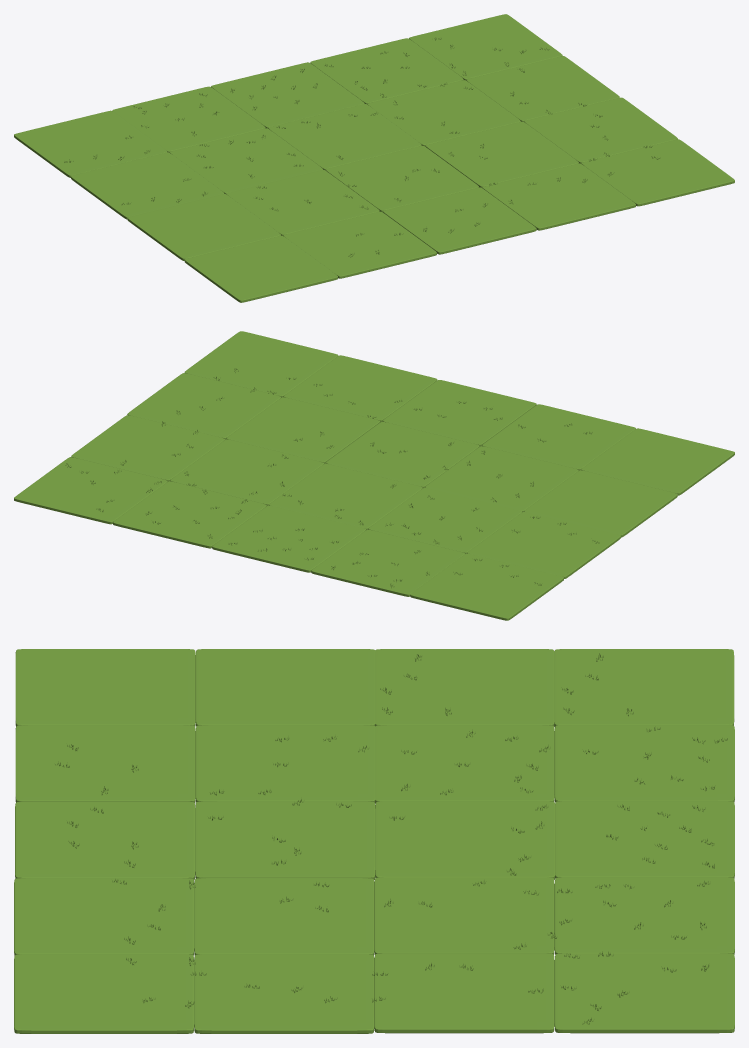
File: FLOOR.fbx
The picture shows the model from 3 angles, top to bottom: view 1: azimuth 30°, elevation 25°; view 2: azimuth 150°, elevation 25°; view 3: azimuth 270°, elevation 25°; orthographic projection. The views are drawn at different scales.
Visible parts, largest first — view 1: Cube.090; view 2: Cube.090; view 3: Cube.090.
Boxes of the visible parts, x1,y1,x2,y2 form: Cube.090: [14, 14, 734, 302]; Cube.090: [14, 331, 734, 620]; Cube.090: [14, 649, 734, 1033].
Bounding box in the file's own units: 19011 × 170 × 15189.
